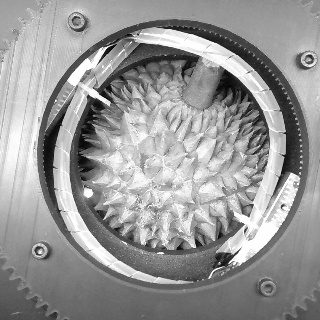base: (177, 83, 219, 113)
